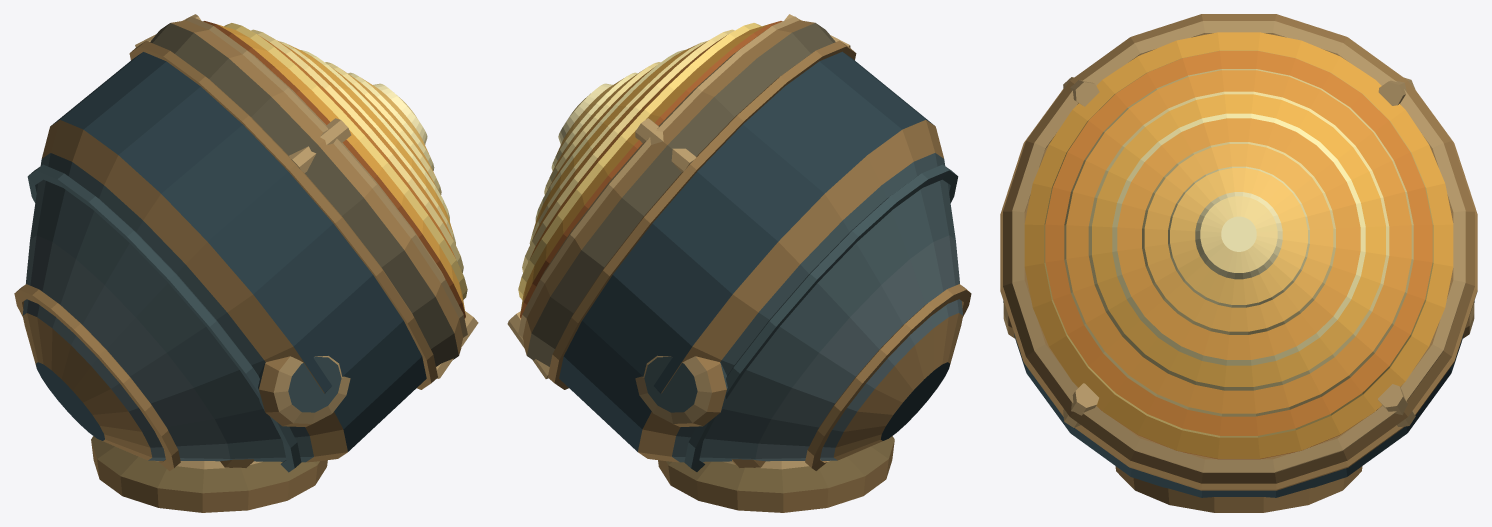
Rendered from SM_HarborBeaconOptic.fbx.
3 renders of one model, left to right at view 1: azimuth 30°, elevation 25°; view 2: azimuth 150°, elevation 25°; view 3: azimuth 270°, elevation 25°, orthographic. The views are drawn at different scales.
Visible parts, largest first — view 1: SM_HarborBeaconOptic; view 2: SM_HarborBeaconOptic; view 3: SM_HarborBeaconOptic.
Boxes of the visible parts, <box> form: SM_HarborBeaconOptic: <box>14,14,478,512</box>; SM_HarborBeaconOptic: <box>507,14,971,512</box>; SM_HarborBeaconOptic: <box>1000,14,1477,512</box>.
Size of the model in its own units: 1.03 by 1.03 by 1.09.
